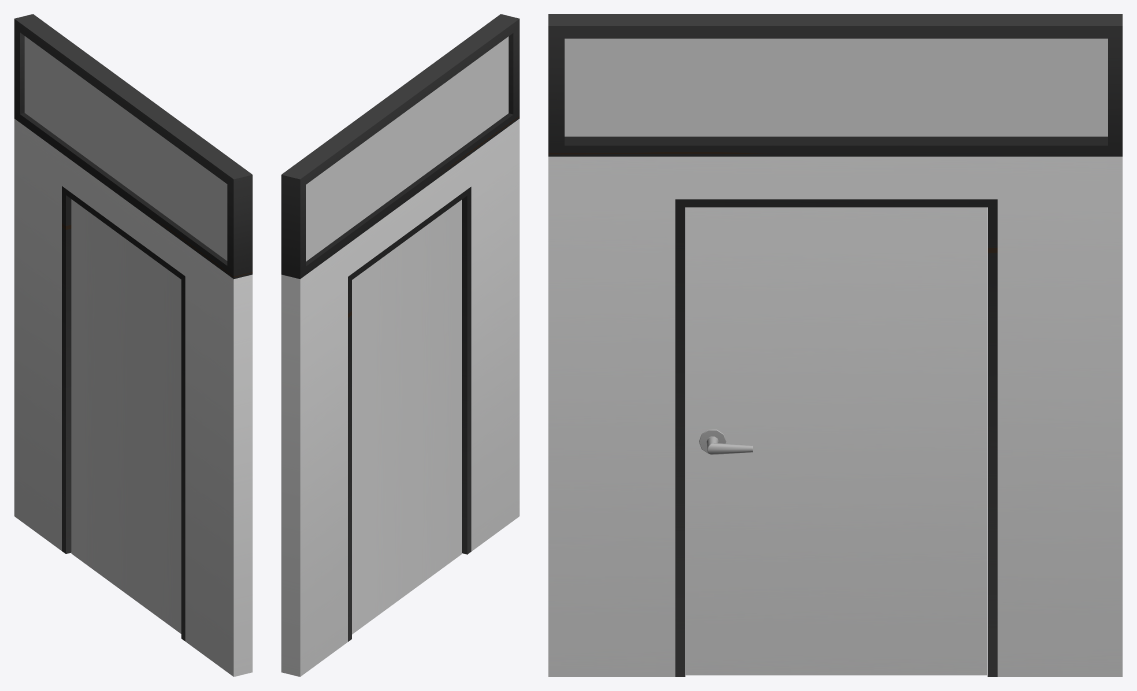
The model's file is ParedConPuerta.fbx.
3 renders of one model, left to right at view 1: azimuth 30°, elevation 25°; view 2: azimuth 150°, elevation 25°; view 3: azimuth 270°, elevation 25°, orthographic. The views are drawn at different scales.
Parts seen in each view (by area): view 1: Pared puerta, Puerta, Cristal puerta, Marco cristal puerta, Marco puerta; view 2: Pared puerta, Puerta, Cristal puerta, Marco cristal puerta, Marco puerta; view 3: Pared puerta, Puerta, Cristal puerta, Marco cristal puerta, Marco puerta.
Part boxes in pixels (x1,y1,x2,y2): Pared puerta: [14, 119, 252, 676]; Puerta: [71, 199, 181, 633]; Cristal puerta: [24, 36, 227, 260]; Marco cristal puerta: [14, 14, 252, 278]; Marco puerta: [62, 186, 185, 640]; Pared puerta: [281, 119, 519, 676]; Puerta: [352, 200, 461, 634]; Cristal puerta: [306, 36, 508, 261]; Marco cristal puerta: [281, 14, 519, 278]; Marco puerta: [348, 187, 471, 641]; Pared puerta: [548, 156, 1122, 676]; Puerta: [685, 207, 986, 675]; Cristal puerta: [564, 38, 1107, 136]; Marco cristal puerta: [548, 14, 1122, 156]; Marco puerta: [675, 199, 997, 676].
Size of the model in its own units: 15.36 by 250 by 200.
